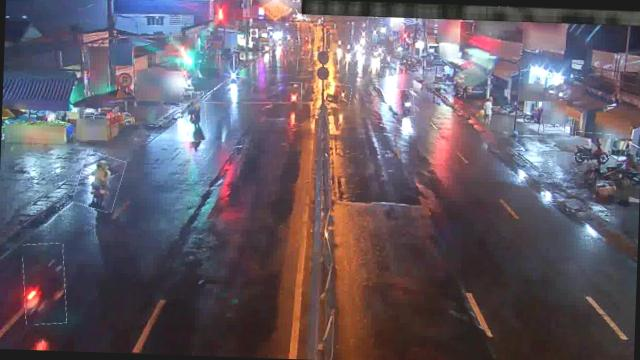Bike: (21, 243, 67, 326), (76, 153, 124, 212), (178, 92, 208, 142), (574, 132, 611, 158), (326, 82, 352, 108), (396, 88, 414, 118), (288, 82, 302, 110)
